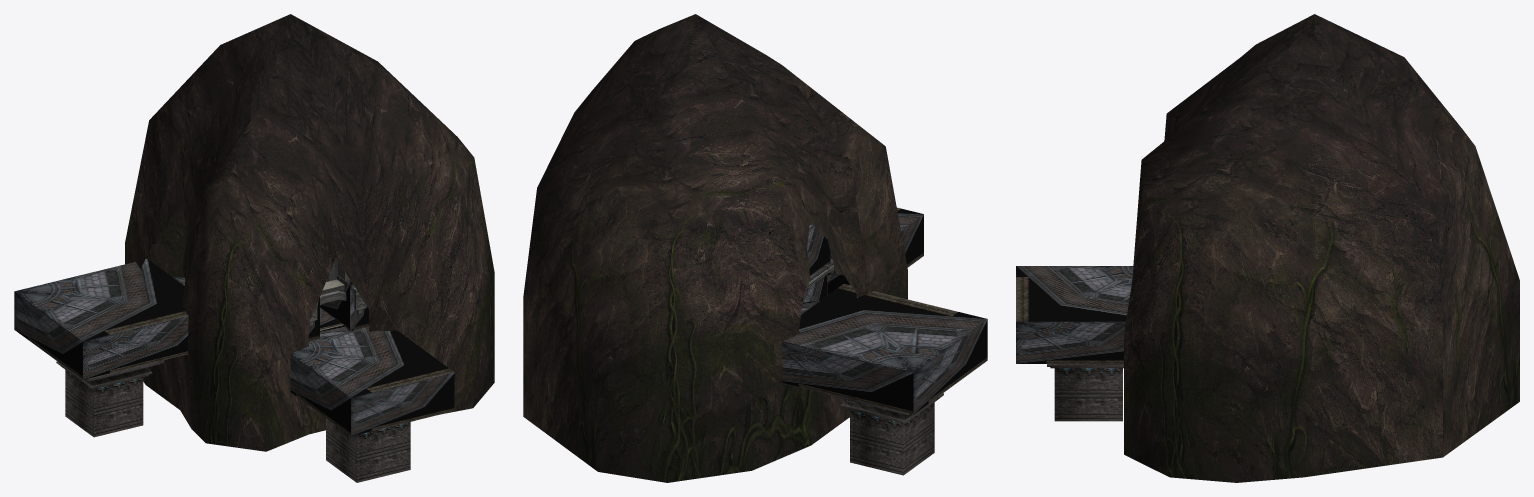
Rendered from x25longxue.FBX.
The picture shows the model from 3 angles, left to right: view 1: azimuth 30°, elevation 25°; view 2: azimuth 150°, elevation 25°; view 3: azimuth 270°, elevation 25°; orthographic projection. The views are drawn at different scales.
Visible parts, largest first — view 1: x25dong, x25longxue_walk_cld, x25longxue06_walk_cld, x25zhuziti001, x25longxue01_cld, x25qiangto; view 2: x25dong, x25longxue_walk_cld, x25zhuziti001, x25longxue06_walk_cld, x25longxue_cld, x25longxue04_walk_cld; view 3: x25dong, x25longxue06_walk_cld, x25zhuziti001.
Part boxes in pixels (x1,y1,x2,y2): x25dong: [125, 14, 494, 451]; x25longxue_walk_cld: [14, 259, 188, 379]; x25longxue06_walk_cld: [290, 327, 454, 436]; x25zhuziti001: [56, 360, 410, 482]; x25longxue01_cld: [320, 275, 368, 331]; x25qiangto: [309, 279, 366, 326]; x25dong: [523, 14, 907, 482]; x25longxue_walk_cld: [782, 284, 987, 414]; x25zhuziti001: [827, 393, 943, 475]; x25longxue06_walk_cld: [827, 207, 923, 294]; x25longxue_cld: [807, 223, 830, 276]; x25longxue04_walk_cld: [803, 266, 826, 302]; x25dong: [1124, 14, 1519, 482]; x25longxue06_walk_cld: [1016, 266, 1133, 363]; x25zhuziti001: [1047, 364, 1123, 421].
Bounding box in the file's own units: 13279 × 12115 × 13611.
